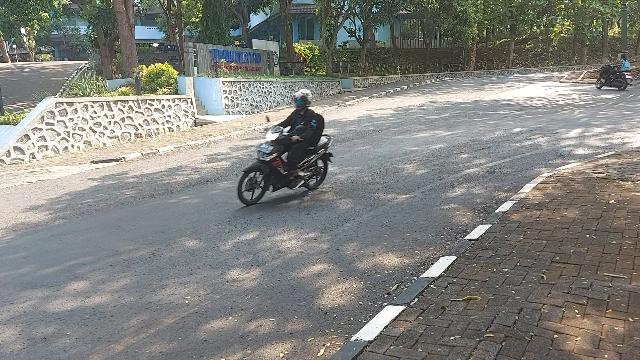helm: (295, 90, 314, 110)
motor: (239, 117, 335, 207)
